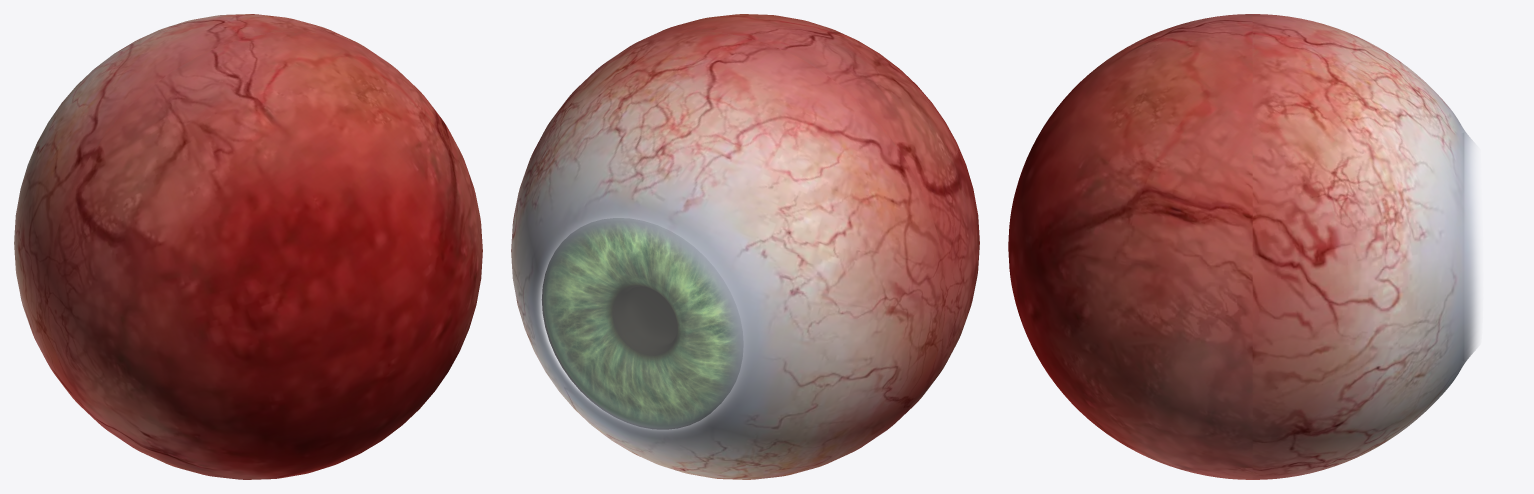
File: eye_blend_optimized.glb
3 renders of one model, left to right at view 1: azimuth 30°, elevation 25°; view 2: azimuth 150°, elevation 25°; view 3: azimuth 270°, elevation 25°, orthographic.
Parts seen in each view (by area): view 1: Sclera_Sclera_001_Material_0; view 2: Sclera_Sclera_001_Material_0, Iris_Iris_001_Material_0; view 3: Sclera_Sclera_001_Material_0.
Boxes of the visible parts, <box> form: Sclera_Sclera_001_Material_0: <box>14,14,482,479</box>; Sclera_Sclera_001_Material_0: <box>511,14,979,479</box>; Iris_Iris_001_Material_0: <box>542,218,741,429</box>; Sclera_Sclera_001_Material_0: <box>1008,14,1479,479</box>.
Size of the model in its own units: 229 by 229 by 251.
2 materials, 2 textured.
